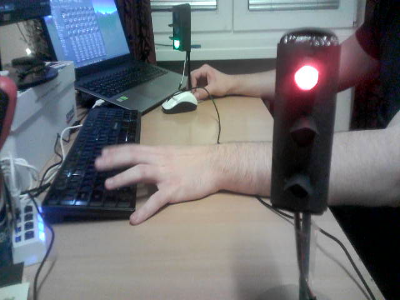trafficlight_green: (172, 8, 184, 52)
trafficlight_red: (278, 42, 331, 214)
